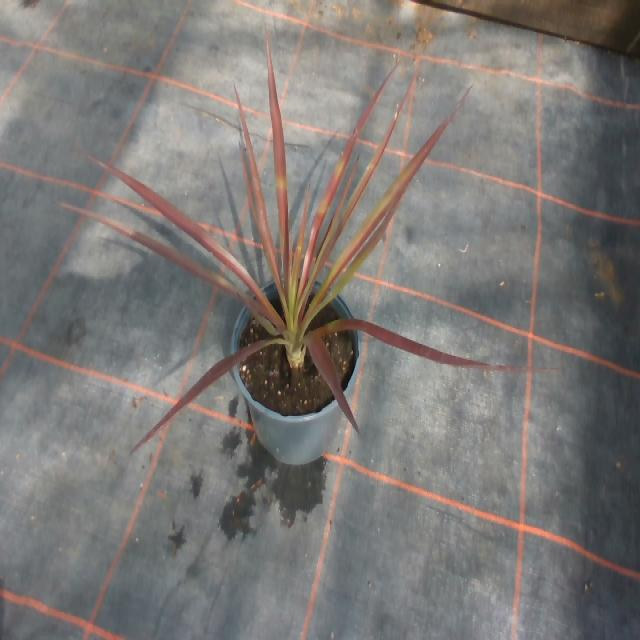Yucca-aloifolia: (82, 152, 283, 327), (322, 89, 469, 289), (61, 203, 259, 309), (303, 71, 392, 283), (313, 89, 408, 279), (131, 340, 275, 452), (316, 320, 554, 369), (236, 89, 283, 295), (305, 333, 359, 433), (267, 35, 287, 288), (294, 187, 309, 296)
